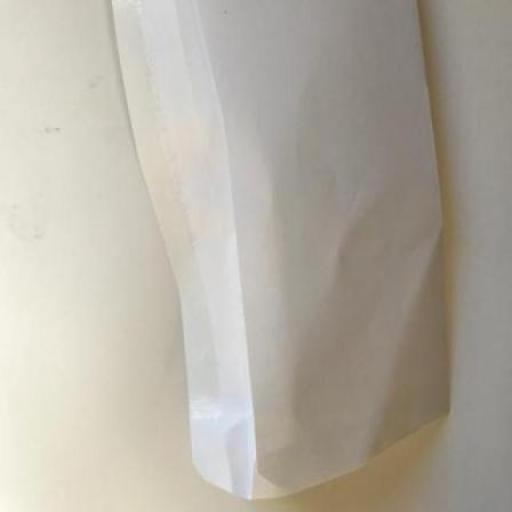paper: (109, 0, 449, 497)
